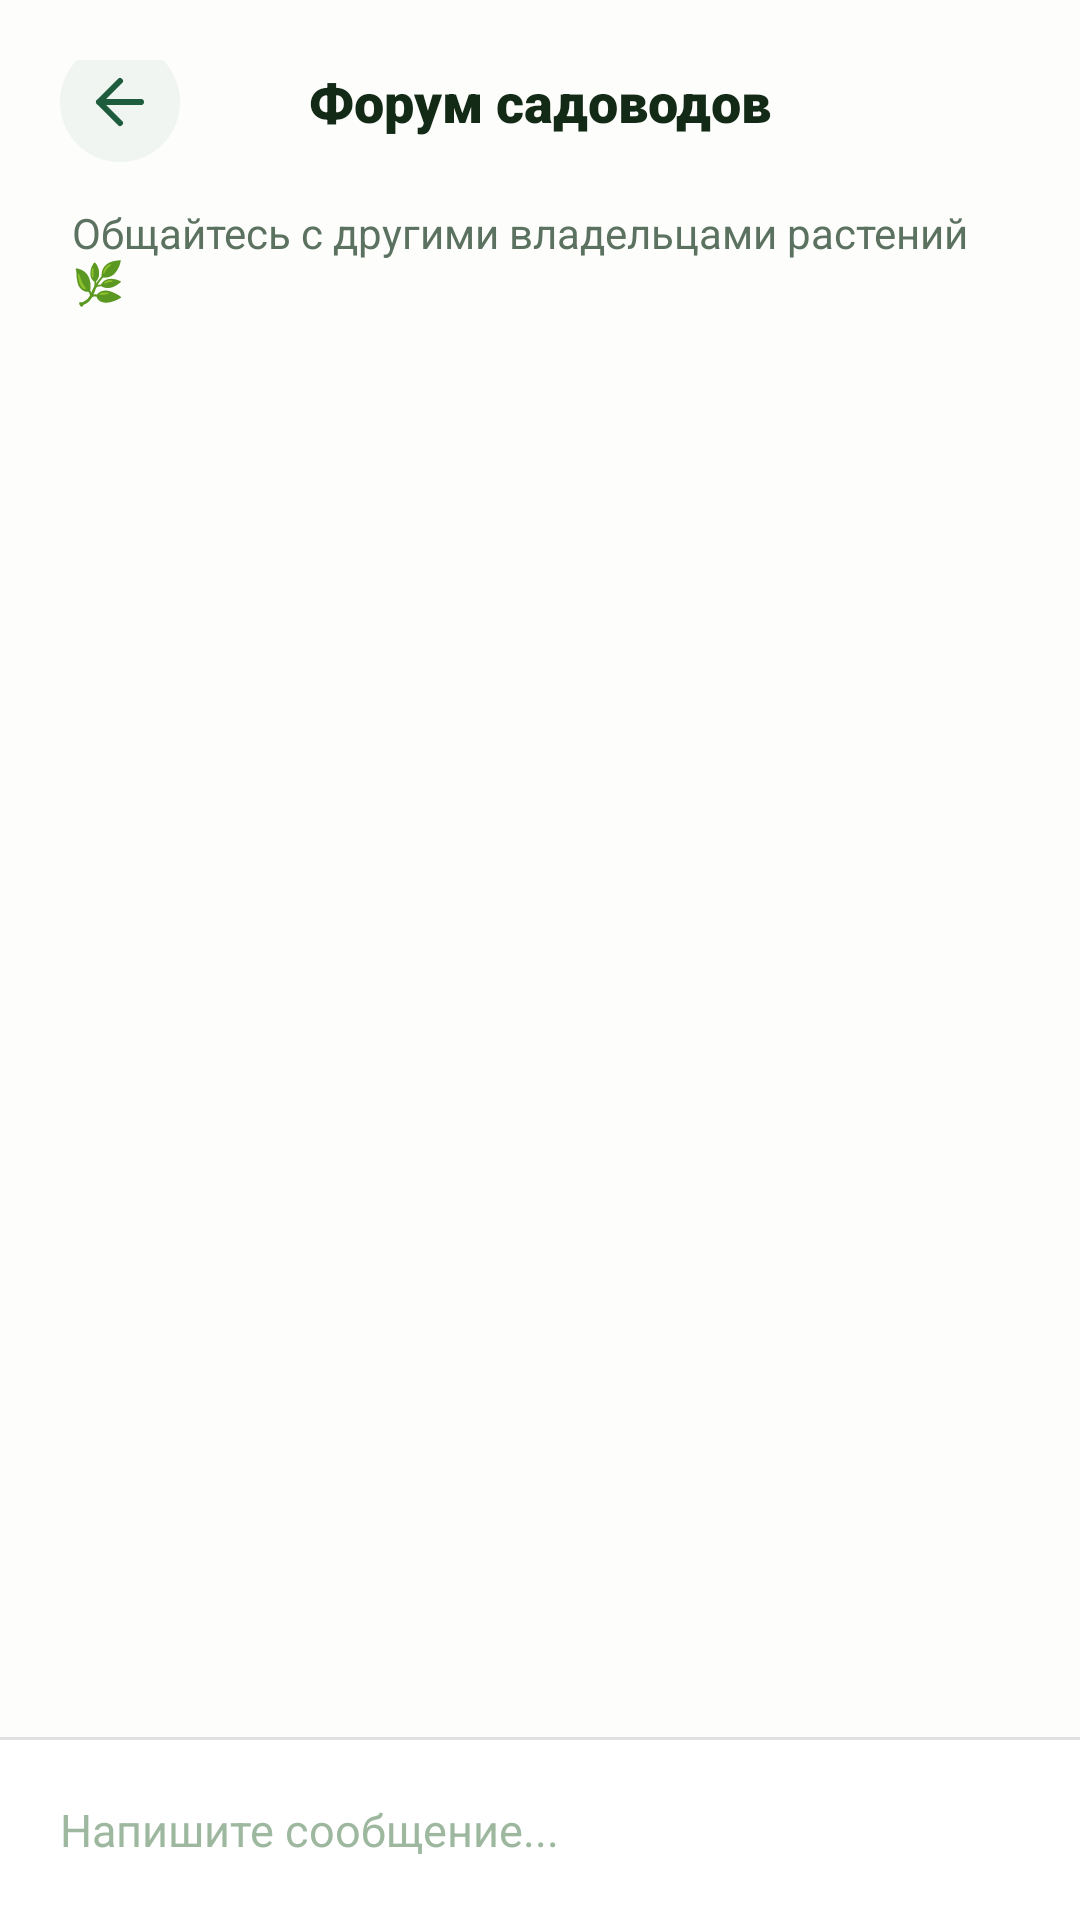

Where icons sit on this 1080 × 1920 app screen, as bbox=(x1, y1, x2, y2):
arrow back: bbox=(60, 60, 180, 162)
